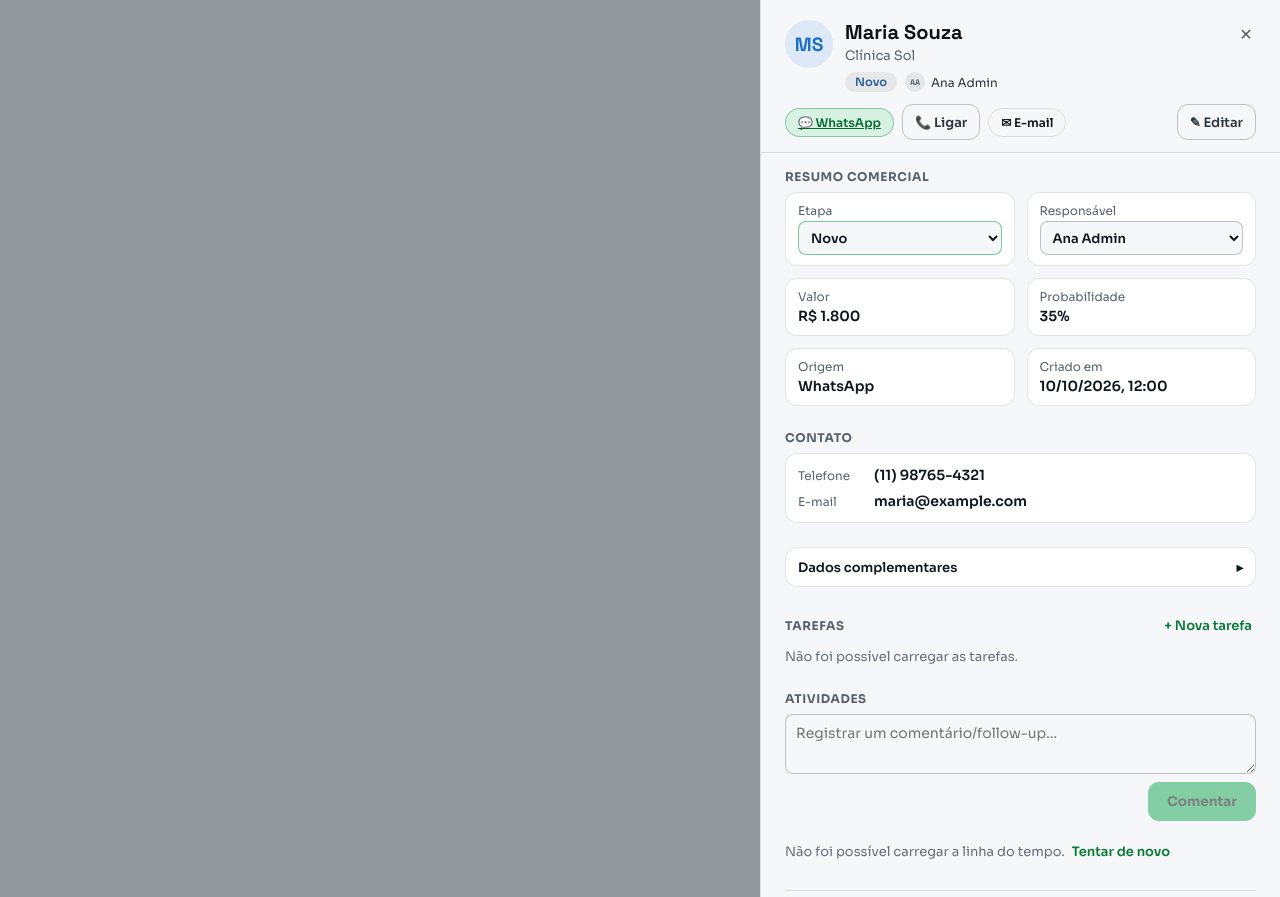
Scenario: F-13 abertura, fechamento e carregamento › erro ao carregar tarefas e timeline: mensagens próprias; timeline permite tentar de novo
This screenshot has width=1280, height=897.
Expected: the text "Não foi possível carregar as tarefas." is shown, [785, 648, 1018, 665]
Expected: the text "Não foi possível carregar a linha do tempo. Tentar de novo" is shown, [785, 837, 1174, 866]
Click the button "Tentar de novo". click: (1121, 851)
box: [1068, 837, 1174, 866]
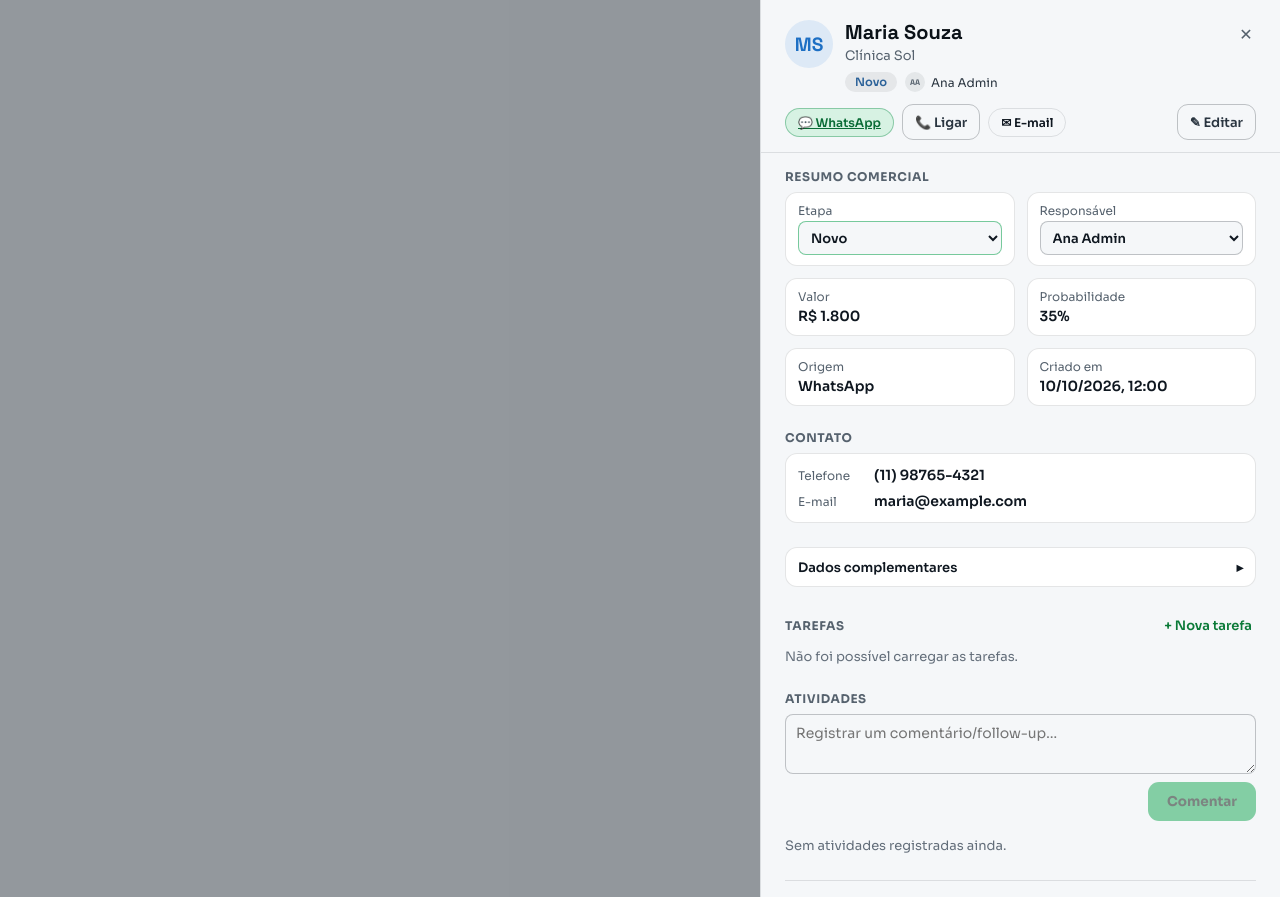
Expected: the text "Sem atividades registradas ainda." is shown, [785, 837, 1006, 854]
